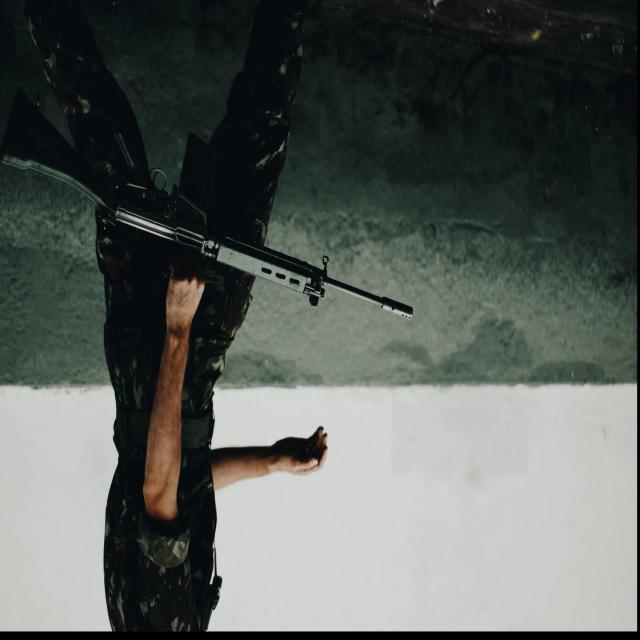weapon: (0, 86, 414, 322)
